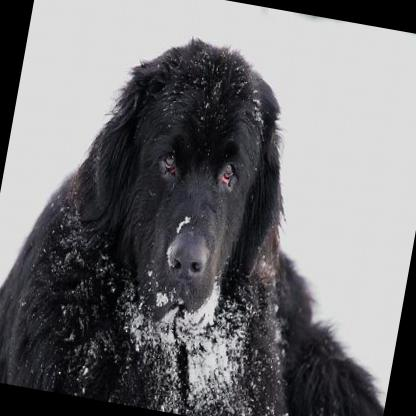Newfoundland: (0, 3, 416, 416)
